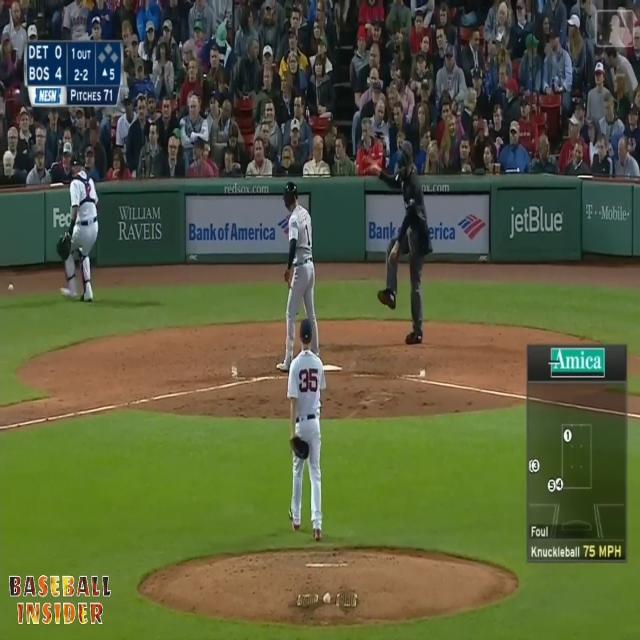baseball: (8, 282, 15, 294)
